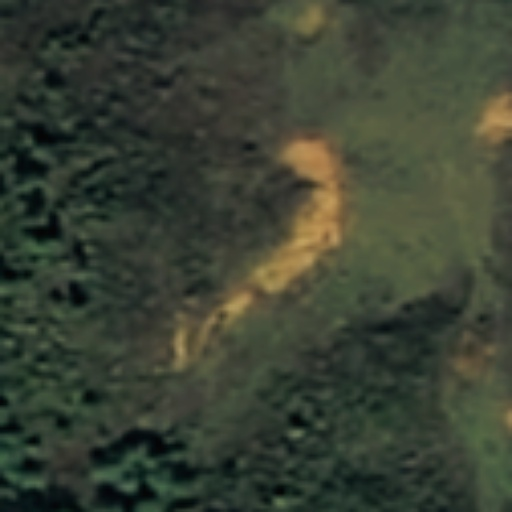landslide: (172, 140, 360, 374), (481, 95, 511, 142)
